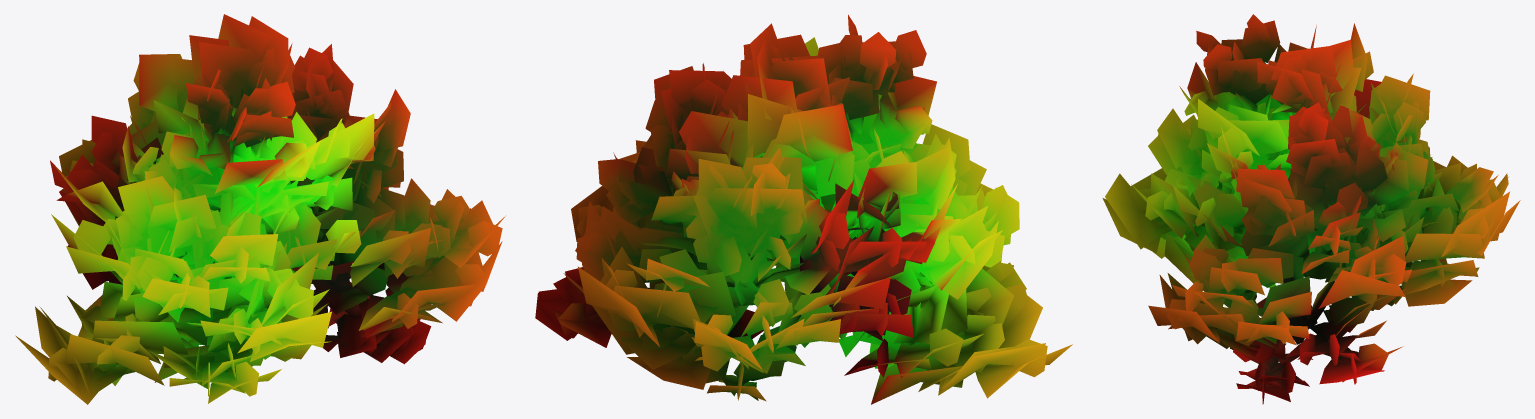
File: tree0_fbx.fbx
The picture shows the model from 3 angles, left to right: view 1: azimuth 30°, elevation 25°; view 2: azimuth 150°, elevation 25°; view 3: azimuth 270°, elevation 25°; orthographic projection. The views are drawn at different scales.
Visible parts, largest first — view 1: tree0_fbx.fbx; view 2: tree0_fbx.fbx; view 3: tree0_fbx.fbx.
Boxes of the visible parts, bbox=[...] form: tree0_fbx.fbx: bbox=[15, 14, 505, 404]; tree0_fbx.fbx: bbox=[535, 14, 1072, 404]; tree0_fbx.fbx: bbox=[1102, 14, 1520, 404].
Size of the model in its own units: 56.27 by 40.89 by 50.87.
